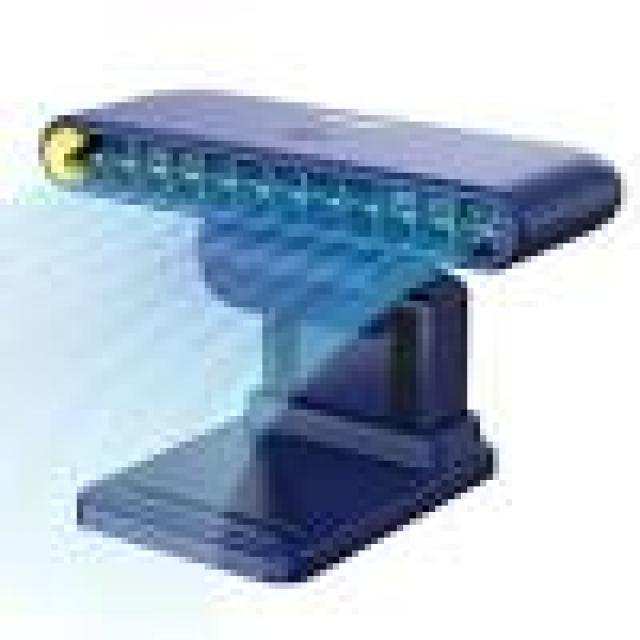fan: (28, 62, 612, 600)
